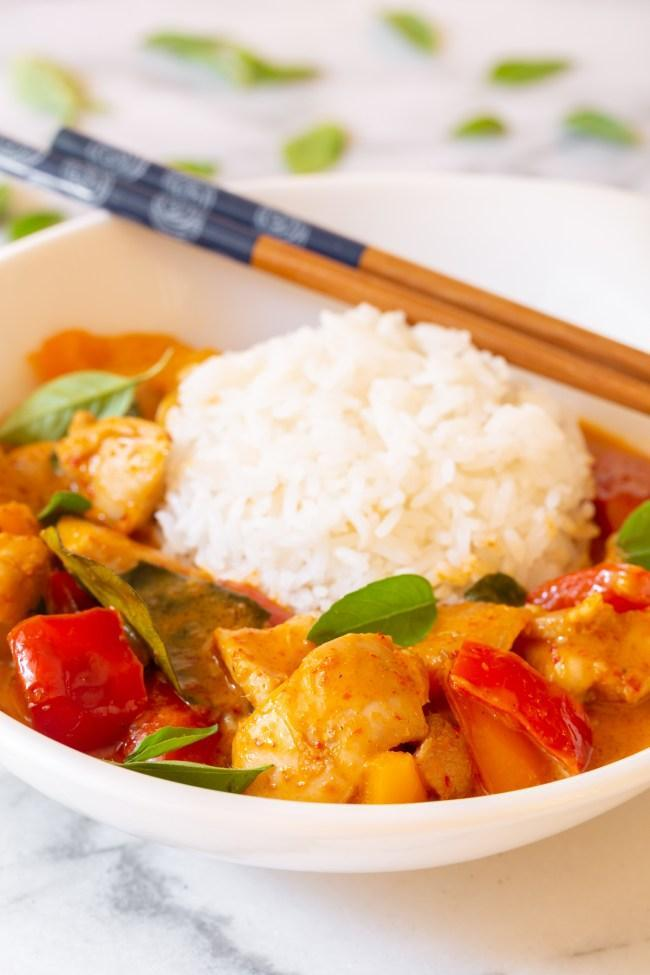chicken: (0, 499, 650, 797)
rice: (160, 349, 602, 607)
